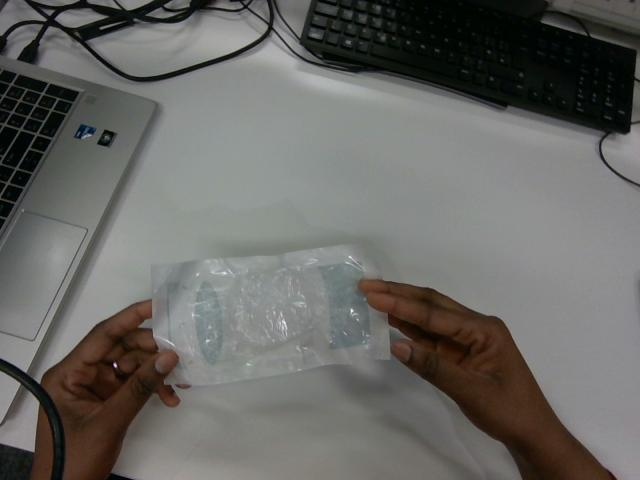gallipot: (152, 245, 389, 384)
